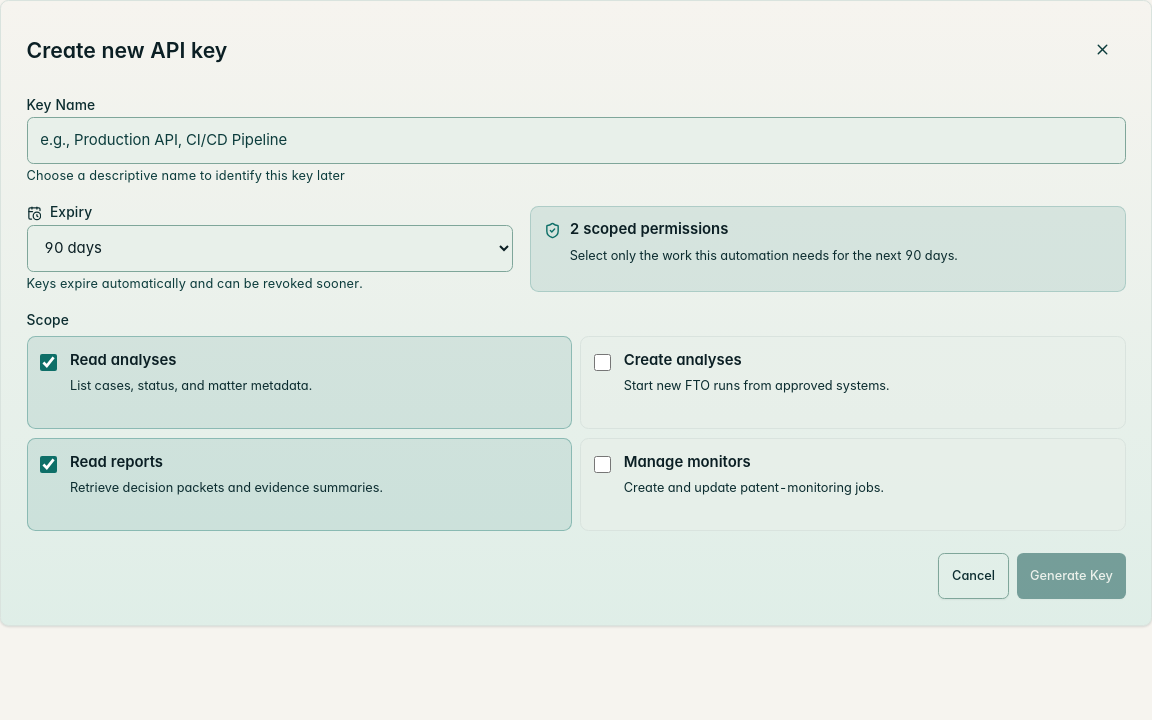
Test: CreateApiKeyForm › keeps submission disabled until the key name is non-empty
expect the button "Generate Key" is disabled: met, box [1017,553,1126,599]
Type "  CI pipeline  " into the field with placeholder "e.g., Production API, CI/CD Pipeline" at [576, 140], box [26,117,1126,164]
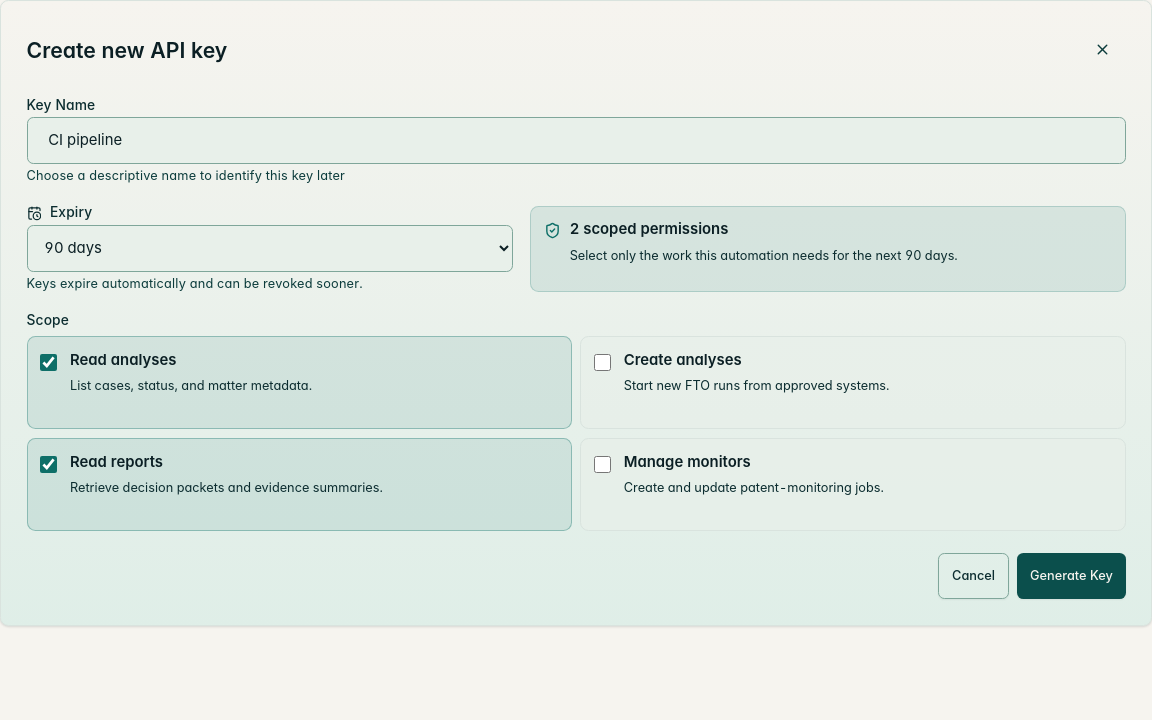
expect the checkbox named "Toggle Read analyses scope" is checked: met, box [40,354,57,371]
expect the button "Generate Key" is enabled: met, box [1017,553,1126,599]
